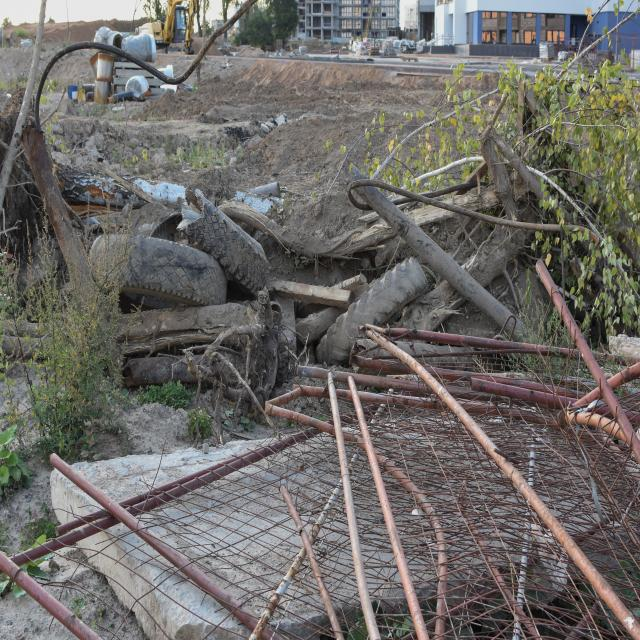entulho: (420, 326, 640, 634), (7, 421, 340, 564), (346, 165, 522, 332), (329, 360, 433, 638), (422, 345, 638, 439), (60, 522, 234, 637), (295, 252, 446, 355), (119, 314, 248, 384), (267, 383, 373, 435), (539, 42, 555, 59), (68, 85, 78, 100), (557, 50, 569, 61), (402, 57, 418, 62), (299, 46, 308, 54)
restos de madeira: (339, 88, 495, 194), (522, 165, 614, 238), (559, 2, 640, 78), (429, 151, 556, 196), (264, 279, 334, 303)
